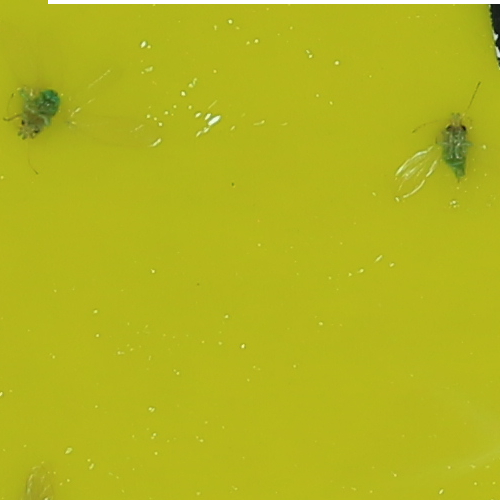Glycaspis: (14, 85, 61, 142), (438, 112, 473, 179)
